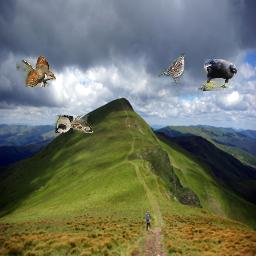Crow: (198, 59, 237, 91)
Cuckoo: (16, 56, 56, 87)
Sparrow: (158, 53, 185, 84), (55, 115, 95, 133)
